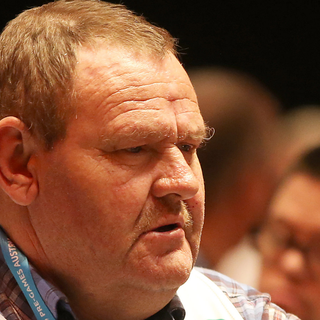eye: (117, 140, 151, 158), (172, 135, 200, 156)
